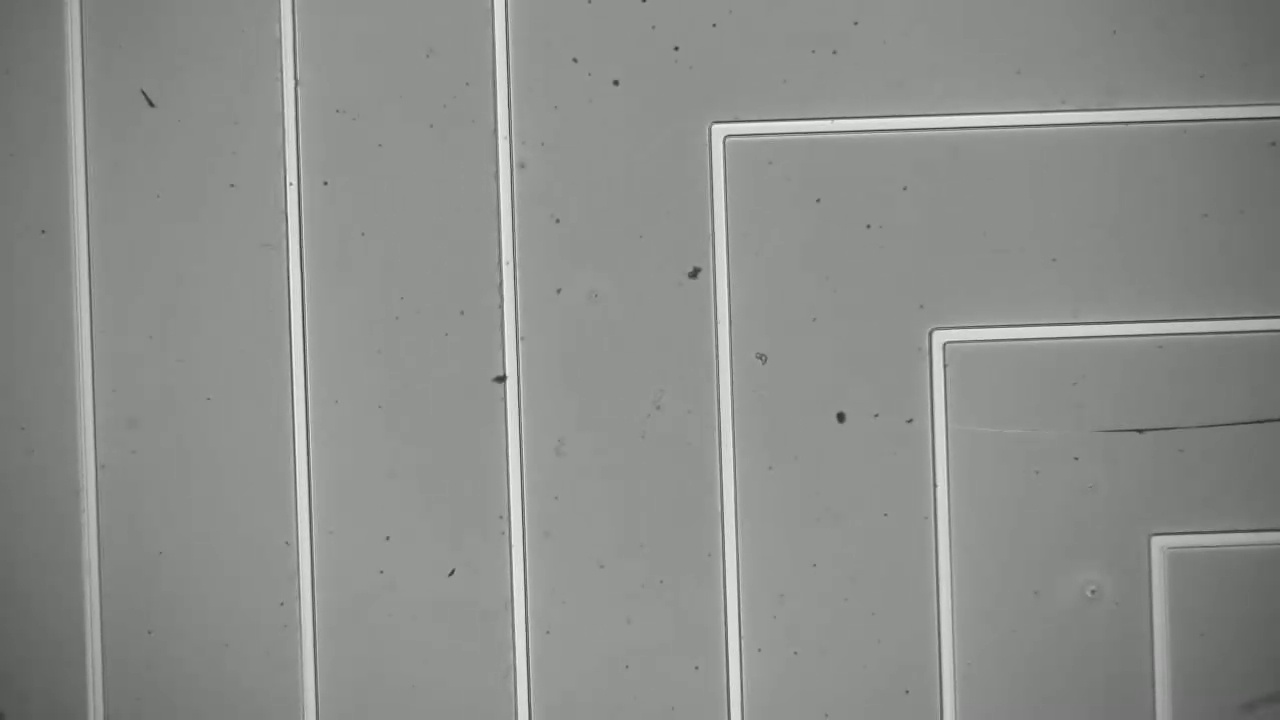scratch: (1068, 392, 1279, 462), (485, 363, 532, 399)
